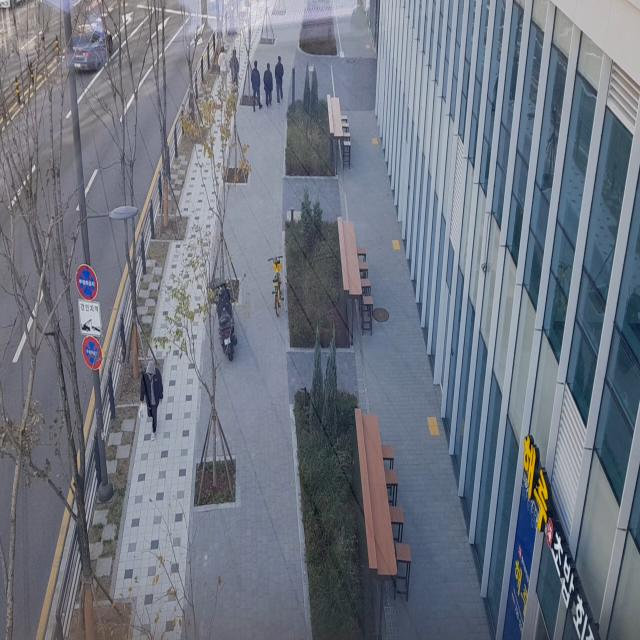Car: (61, 3, 115, 84)
